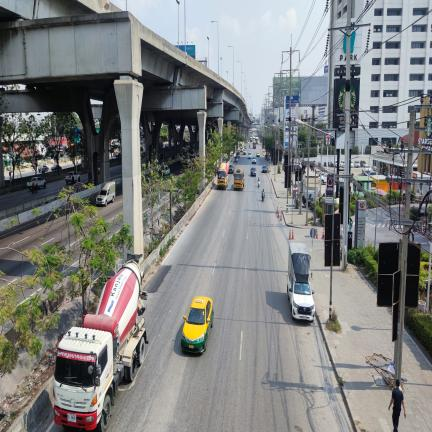car: (38, 165, 49, 173), (51, 164, 62, 171), (228, 164, 234, 174), (250, 167, 256, 176), (262, 165, 268, 173), (234, 156, 239, 163), (252, 158, 257, 164), (243, 148, 246, 155), (248, 153, 251, 159)
human: (388, 379, 406, 432)
motorbike: (262, 192, 265, 202), (258, 179, 260, 188), (324, 161, 327, 167), (249, 145, 250, 149)
pickup: (27, 177, 46, 190), (65, 172, 80, 184)
taxi: (181, 297, 213, 352), (256, 152, 260, 158)
truck: (53, 261, 147, 431), (287, 243, 315, 321), (96, 182, 115, 206), (217, 162, 229, 190), (234, 169, 245, 190), (236, 149, 240, 157), (253, 141, 256, 149)
van: (287, 243, 311, 288)
